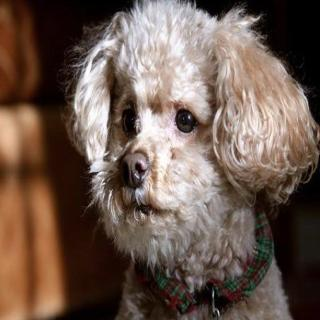dog: (75, 0, 308, 266)
nose: (115, 148, 150, 189)
